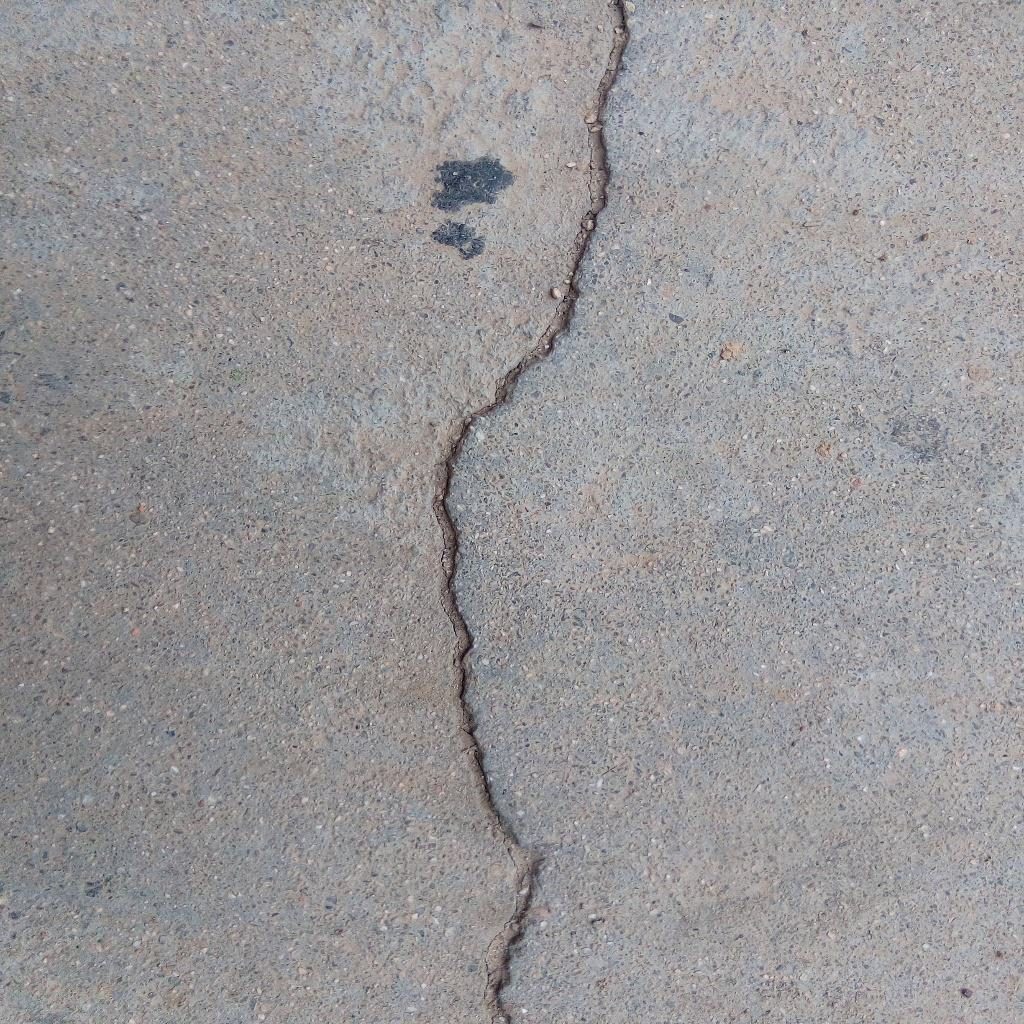Crack: (430, 1, 633, 1024)
